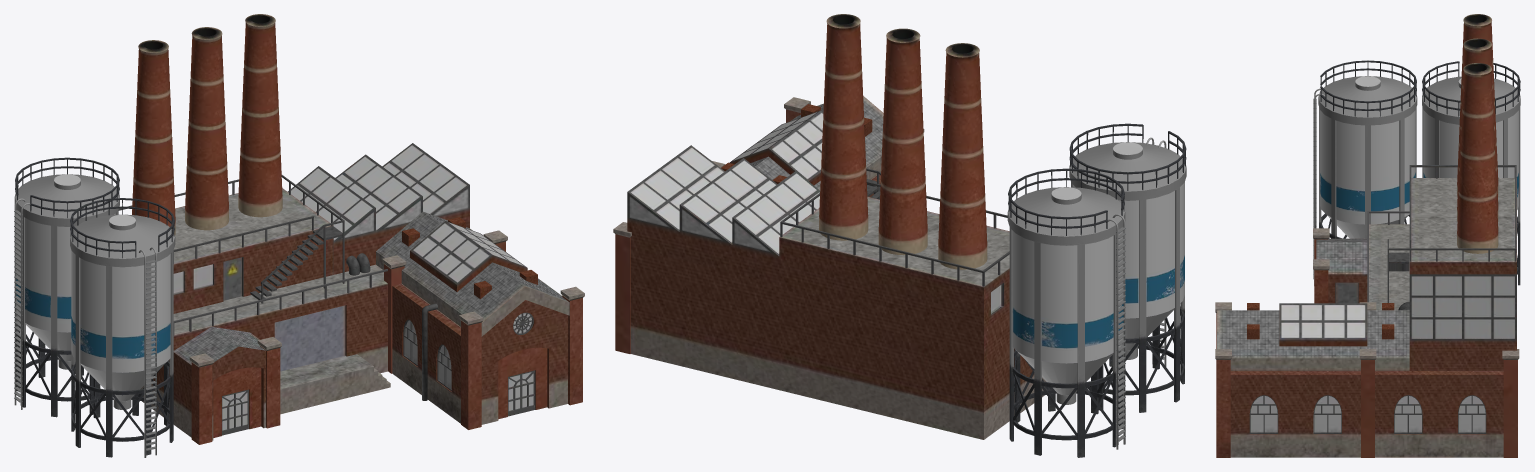
The model's file is fabrica2.glb.
The picture shows the model from 3 angles, left to right: view 1: azimuth 30°, elevation 25°; view 2: azimuth 150°, elevation 25°; view 3: azimuth 270°, elevation 25°; orthographic projection. The views are drawn at different scales.
Visible parts, largest first — view 1: Object_2, Object_3; view 2: Object_2, Object_3; view 3: Object_2, Object_3.
Part boxes in pixels (x1,y1,x2,y2): Object_2: [118, 14, 584, 444]; Object_3: [14, 157, 175, 457]; Object_2: [613, 14, 1046, 439]; Object_3: [1007, 123, 1186, 457]; Object_2: [1215, 14, 1519, 457]; Object_3: [1313, 60, 1520, 285].
Bounding box in the file's own units: 27.17 × 19.61 × 17.75.
2 materials, 2 textured.
